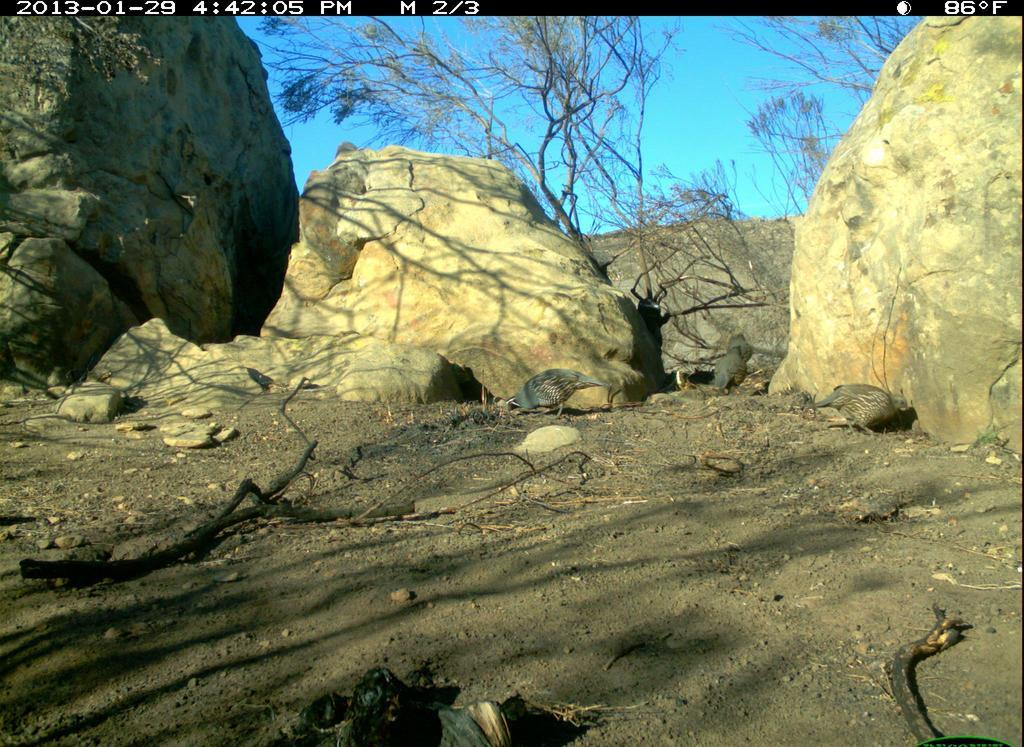bird: (725, 331, 754, 364)
